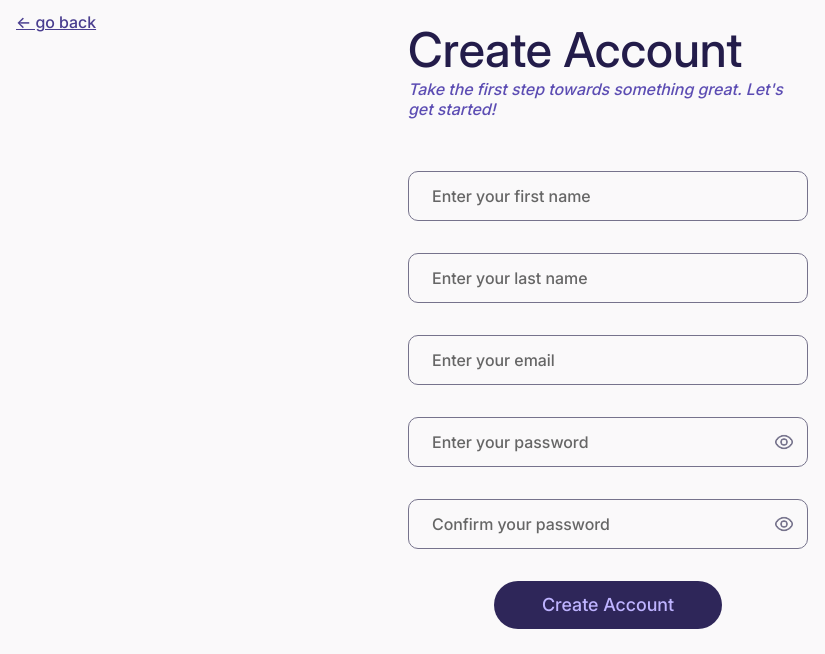
Test: Create Account Page › should show error when passwords do not match
The image size is (825, 654).
Type "Anna" into the field with test id "first_name_text_input" at (608, 196), box [408,171,808,221]
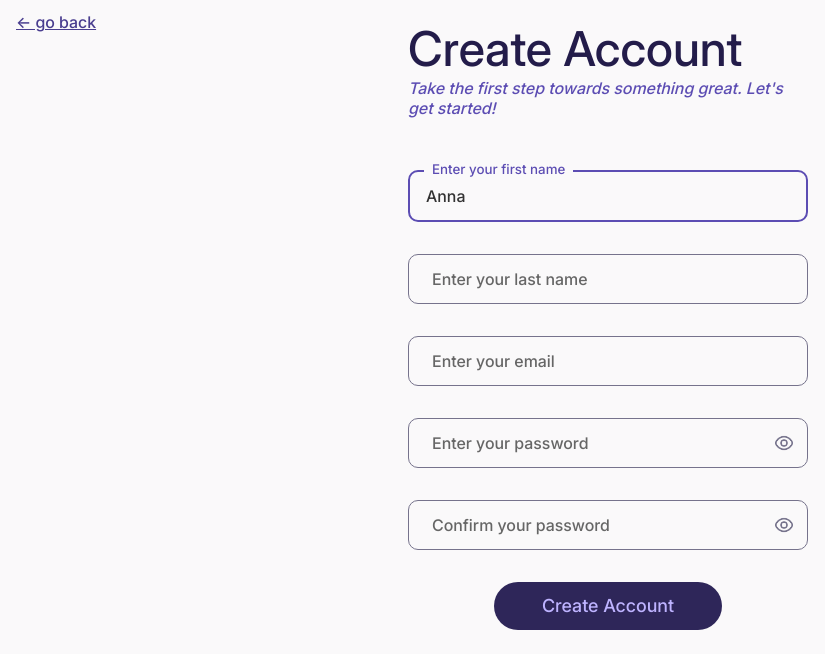
Type "Smith" into the field with test id "last_name_text_input" at (608, 279), box [408,254,808,304]
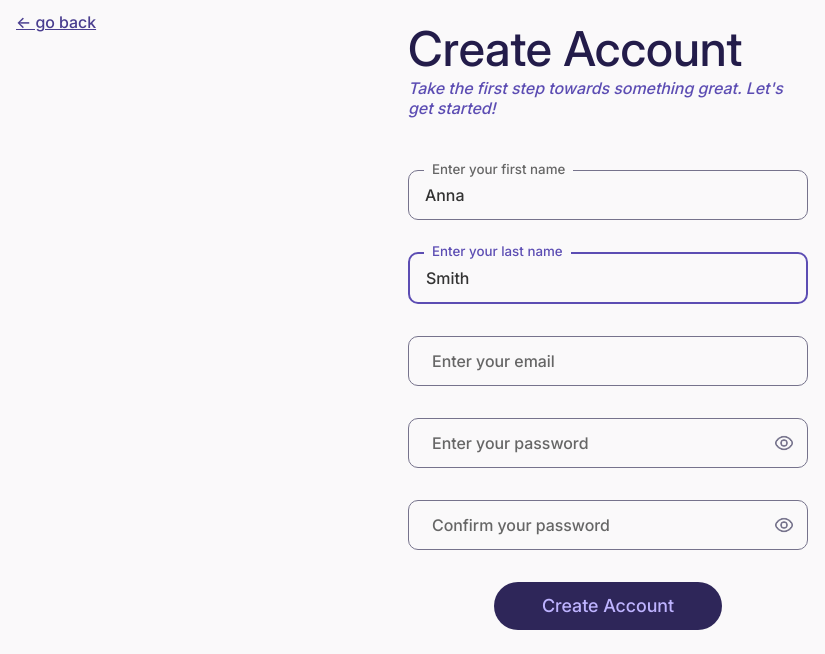
Type "anna.smith@example.com" into the field with test id "email_text_input" at (608, 361), box [408,336,808,386]
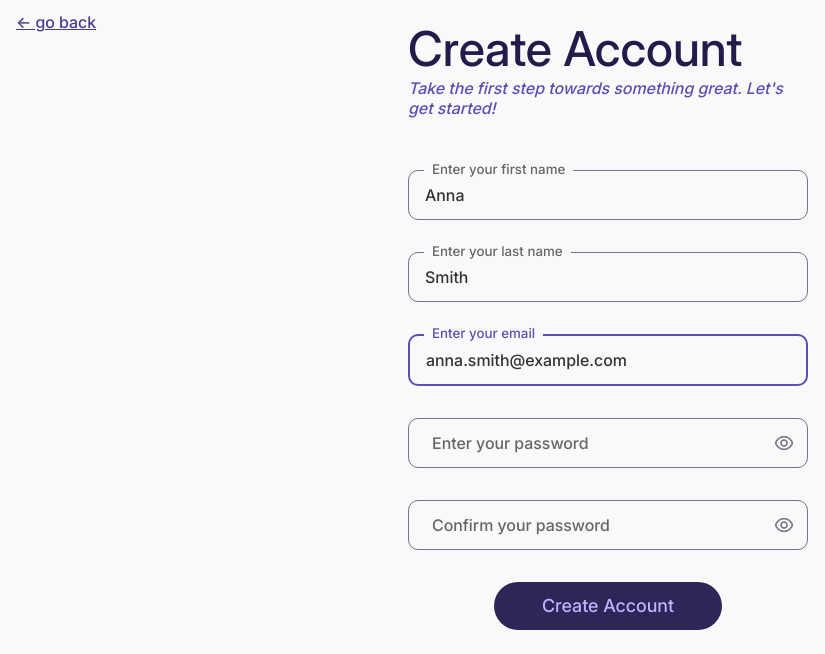
Type "Password123!" into the password field with test id "password_text_input" at (608, 443), box [408,418,808,468]
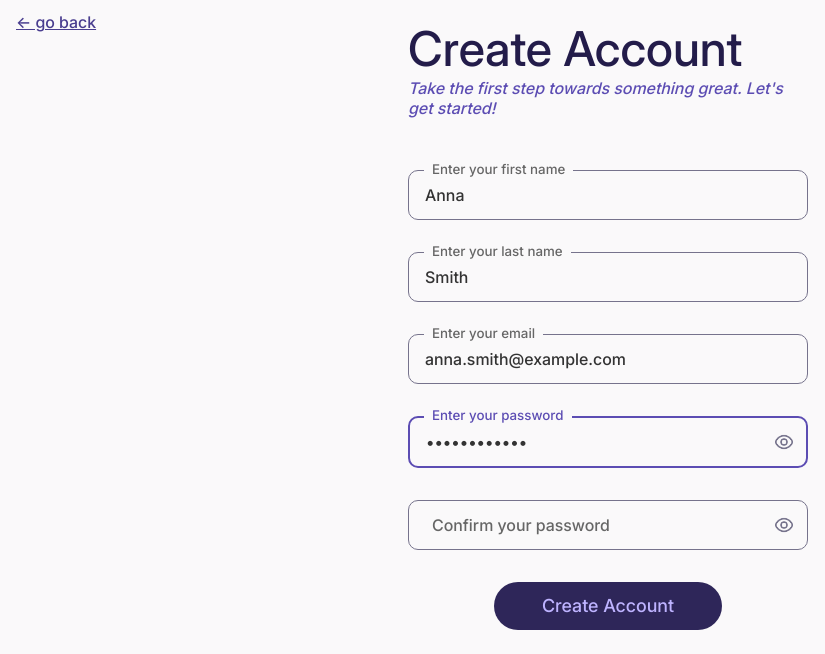
Type "DifferentPassword456!" into the password field with test id "confirm_password_text_input" at (608, 525), box [408,500,808,550]
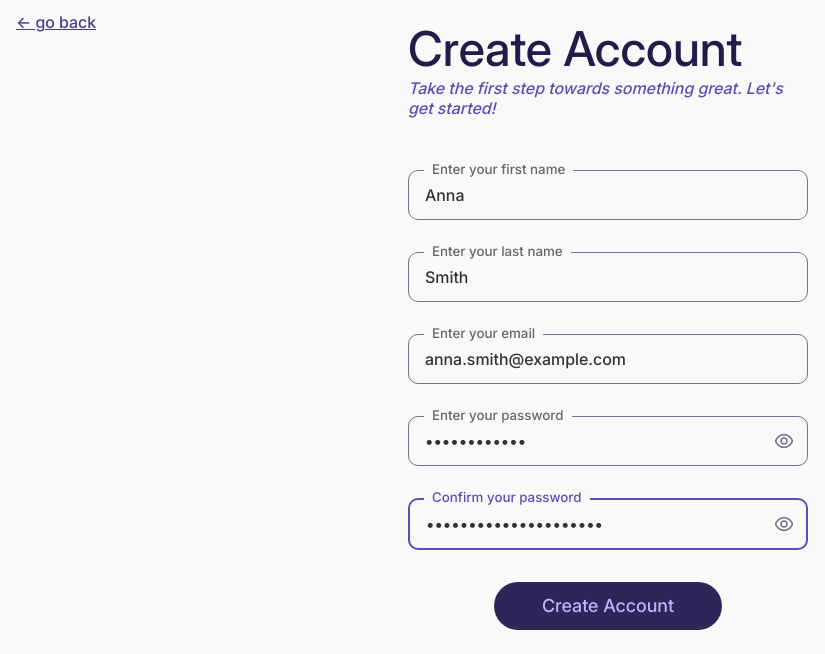
Click the button with test id "create_account_button" at (608, 606), box [494,582,722,630]
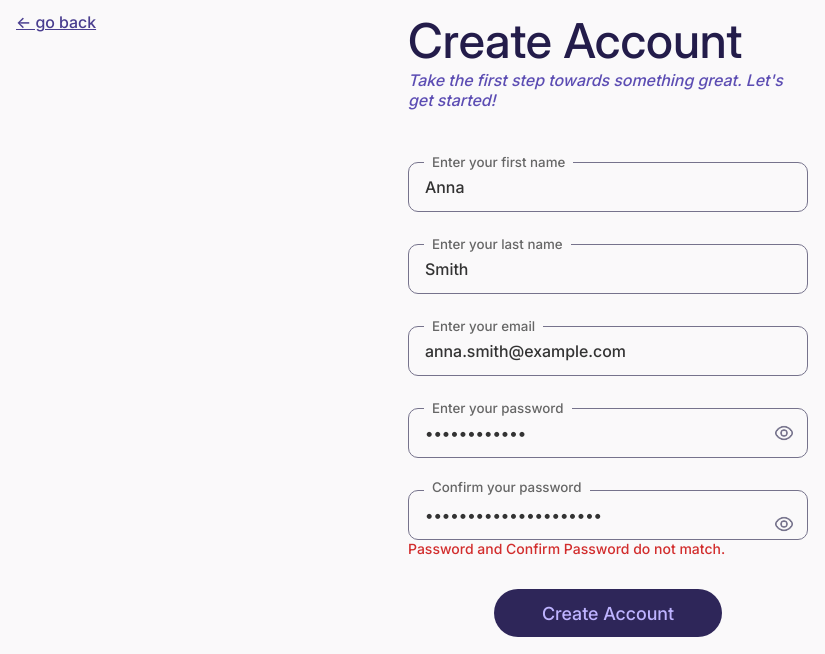
Result: the element showing "Password and Confirm Password do not match." is shown at [408,540,725,557]
